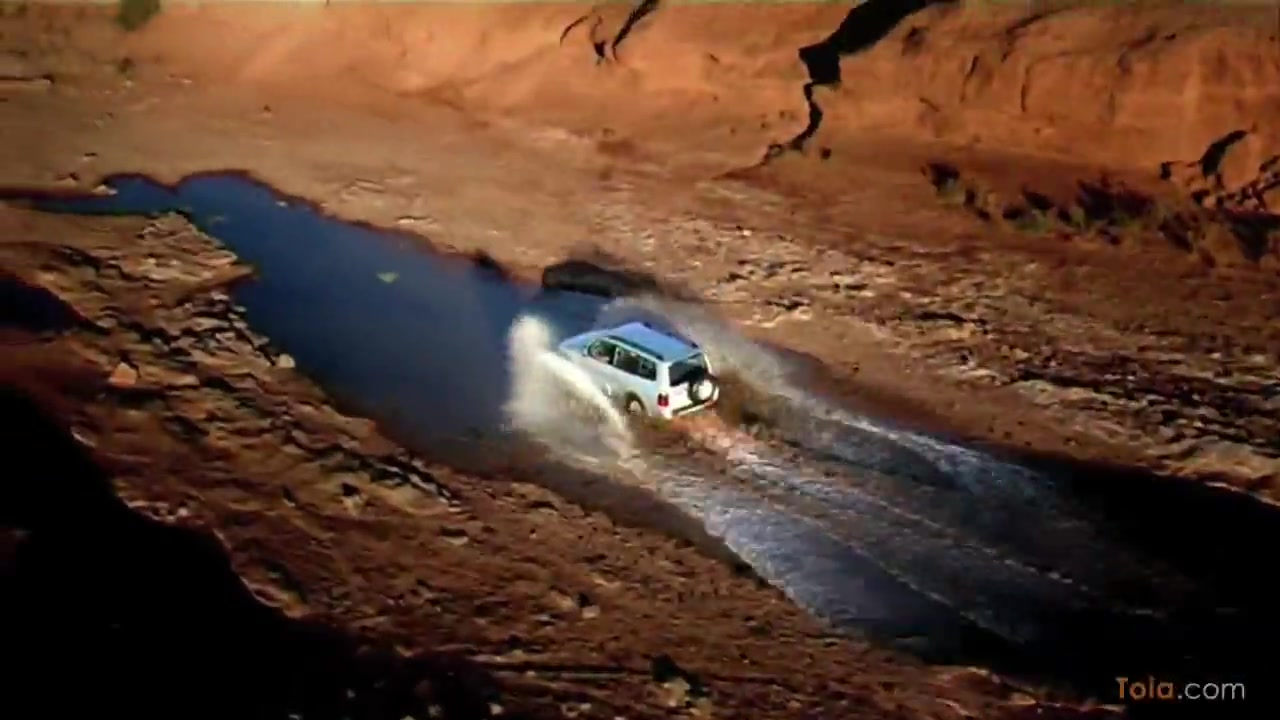car: (557, 316, 724, 429)
